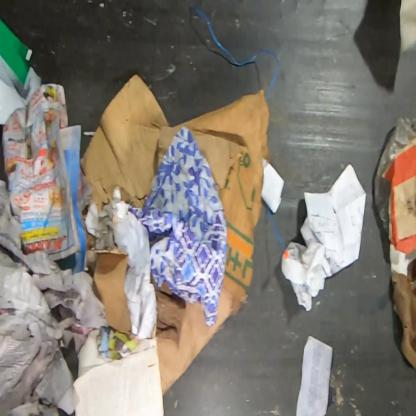cardboard: (80, 70, 272, 397), (86, 244, 131, 336), (381, 135, 415, 254), (391, 271, 415, 369)
rigid_plastic: (0, 17, 44, 127)
soft_plastic: (373, 116, 415, 239)
